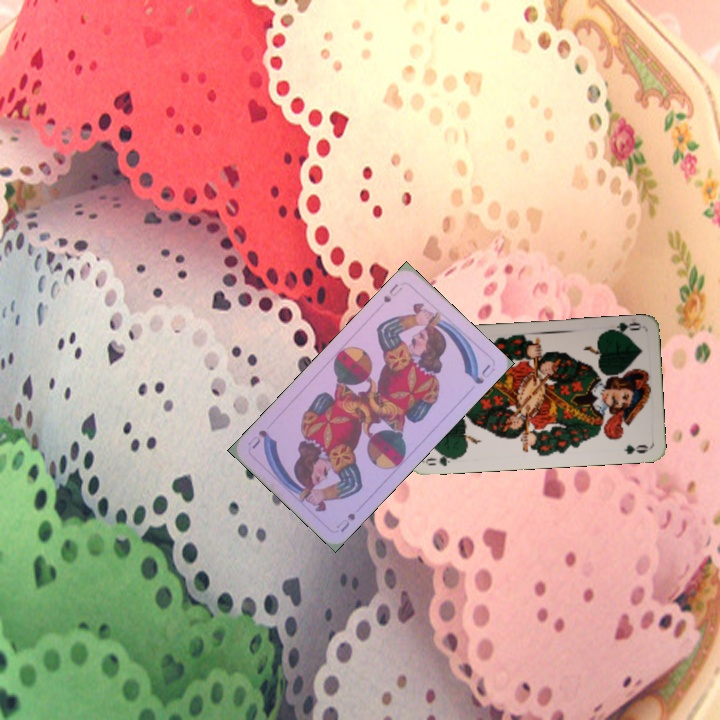GO: (603, 318, 643, 338), (421, 450, 461, 469)
SU: (332, 509, 358, 535), (379, 279, 405, 305)
